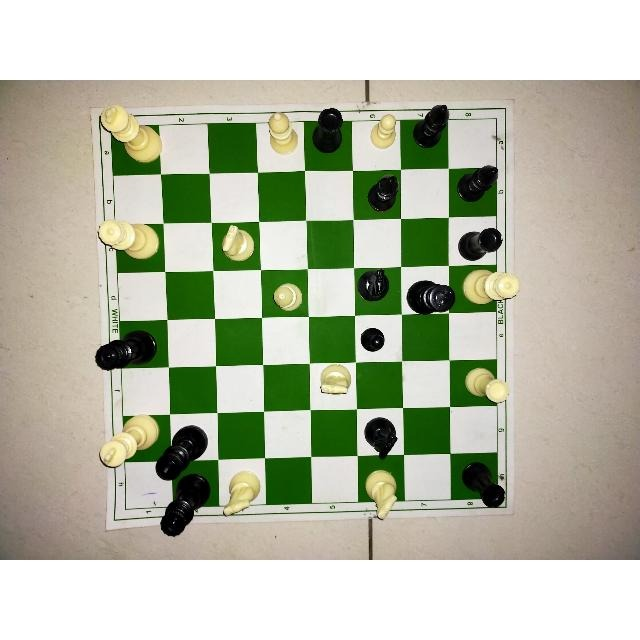black-bishop: (454, 163, 501, 204), (411, 103, 451, 150), (363, 172, 403, 215)
black-king: (154, 425, 208, 481), (403, 275, 457, 317)
black-knight: (363, 414, 401, 459), (355, 266, 394, 302)
black-pawn: (357, 326, 390, 352)
black-queen: (159, 473, 211, 539), (95, 328, 159, 374)
black-rook: (459, 459, 506, 510), (310, 105, 345, 159), (457, 224, 504, 262)
white-bishop: (266, 107, 300, 158), (271, 282, 307, 314)
white-king: (98, 105, 163, 164), (96, 413, 160, 468)
white-knight: (221, 467, 263, 518), (362, 469, 400, 521), (218, 223, 257, 265), (316, 360, 355, 398)
white-pawn: (367, 112, 398, 150)
white-queen: (97, 218, 159, 261), (461, 266, 521, 306)
white-rook: (464, 366, 510, 405)
